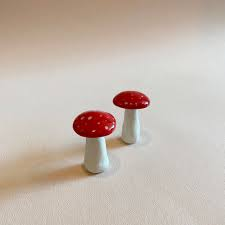Amanita muscaria: (69, 109, 117, 190), (110, 84, 156, 149)
